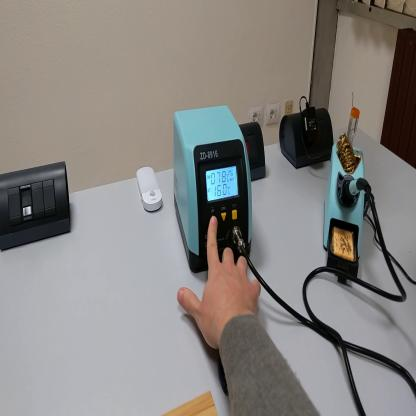hand: (176, 214, 261, 349)
socket: (278, 106, 336, 170), (240, 125, 269, 183)
welder base: (324, 106, 369, 295)
welder probe tip: (341, 166, 364, 213)
welder station: (171, 106, 254, 280)
working area: (163, 390, 217, 416)
